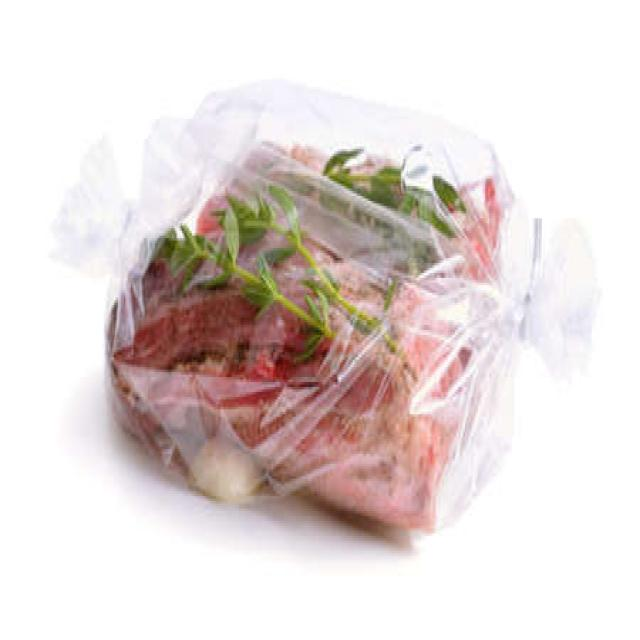pork: (103, 128, 538, 537)
